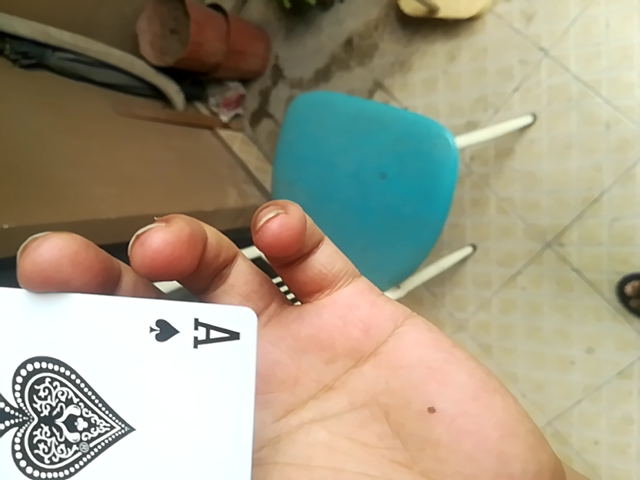ht a: (2, 268, 255, 478)
